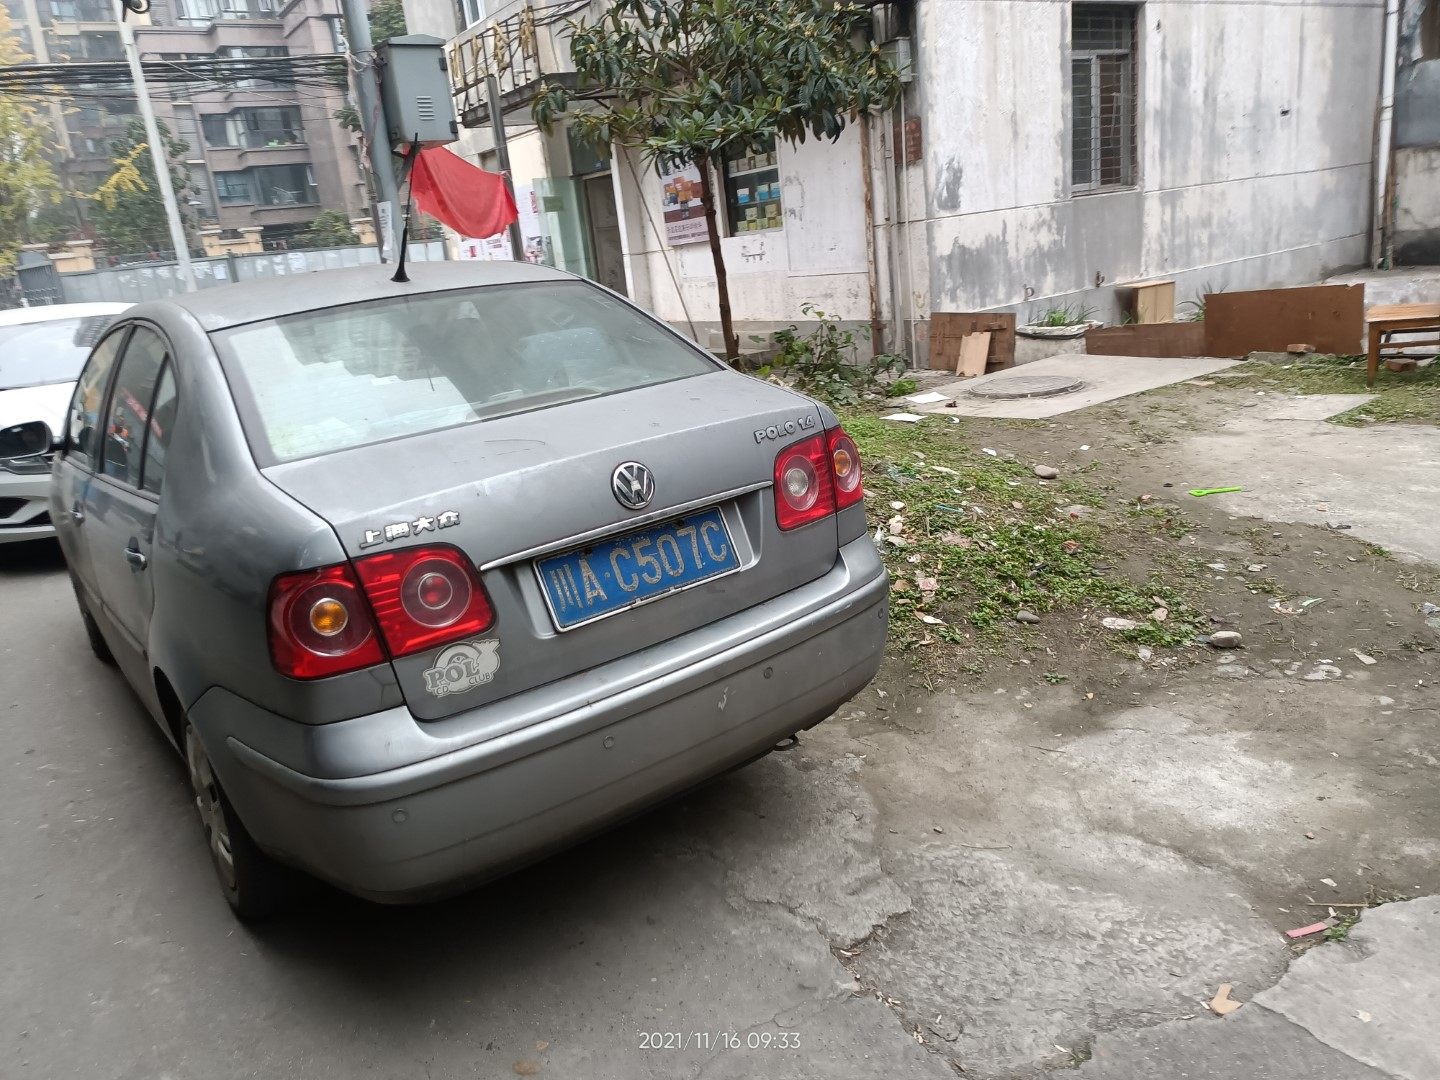plate: (527, 499, 744, 636)
